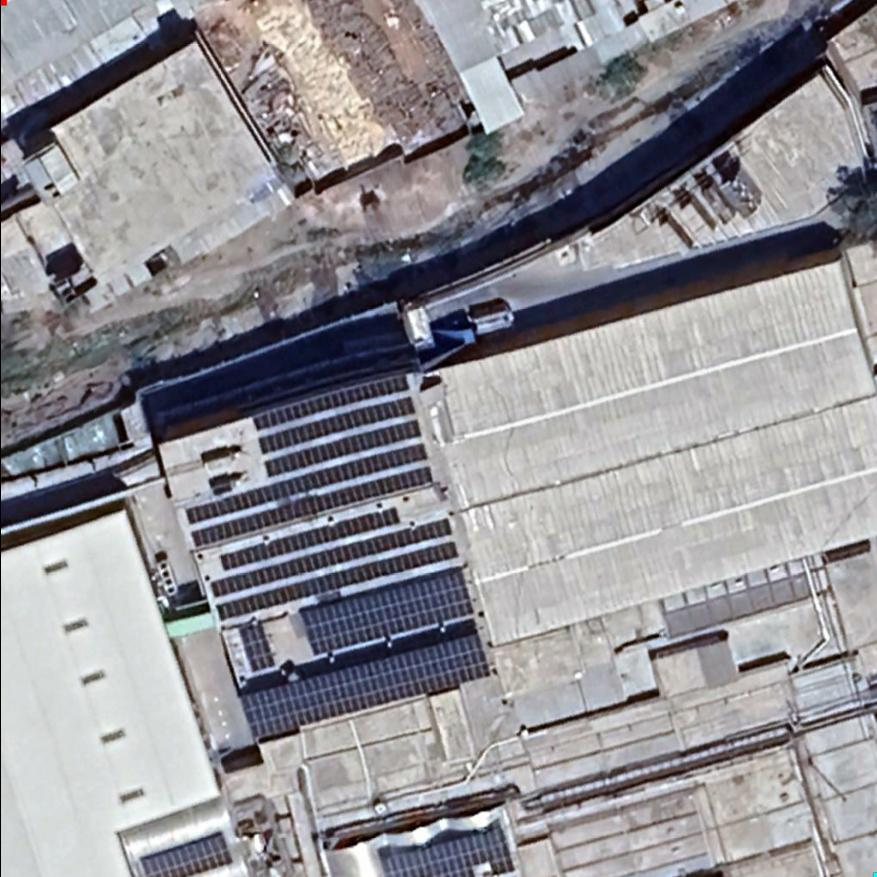Solarpanel: (237, 630, 492, 742), (182, 440, 427, 525), (189, 465, 434, 547), (207, 516, 454, 597), (214, 542, 458, 622), (298, 564, 475, 658), (217, 505, 400, 571), (263, 418, 420, 478), (250, 373, 408, 432), (256, 396, 414, 453), (376, 825, 518, 876), (135, 832, 233, 876), (234, 620, 276, 673)
